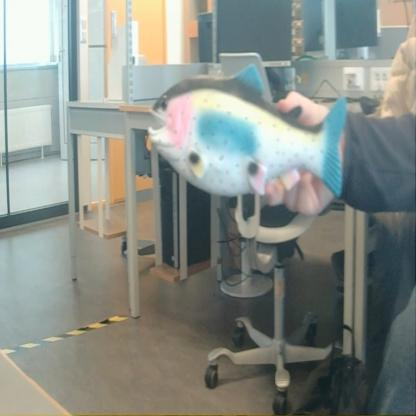rubberfish: (139, 54, 350, 207)
